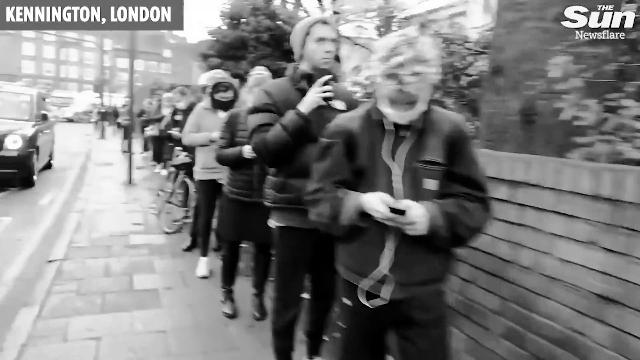berdiri: (325, 31, 490, 360)
